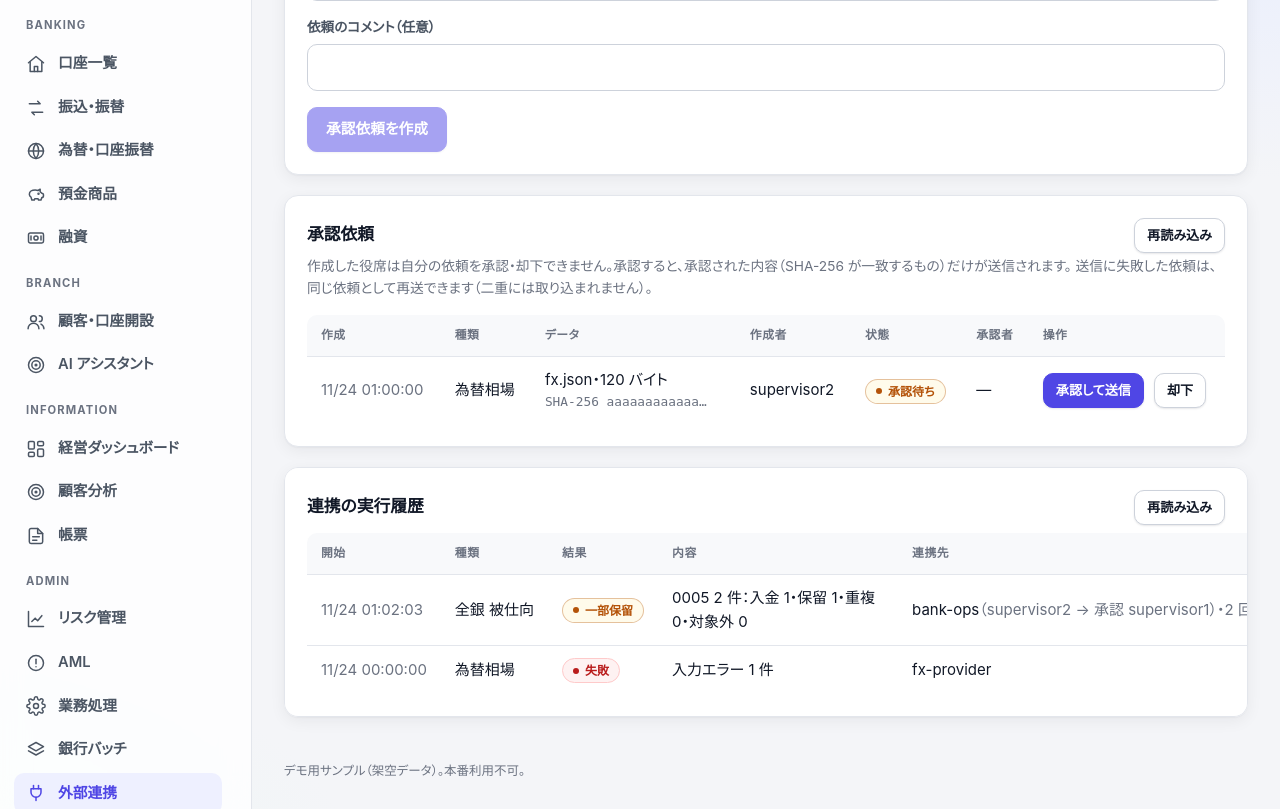
IntegrationPage › 別の役席の依頼を承認すると送信され、取込結果を表示する
(page scrolled)
Click the button "承認して送信". click: click(1093, 390)
box: [1043,373,1144,408]
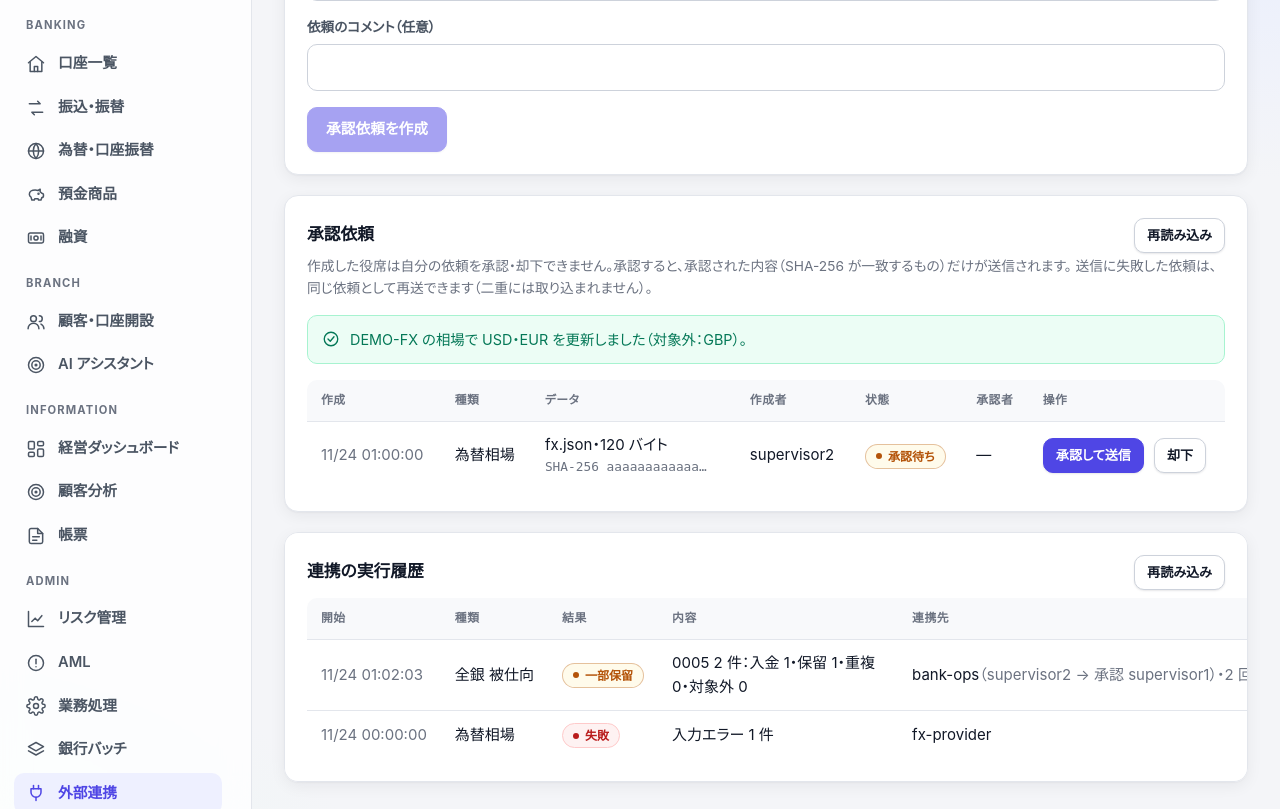
Now the text "DEMO-FX の相場で USD・EUR を更新しました（対象外：GBP）。" is shown, box [350,328,747,351]
